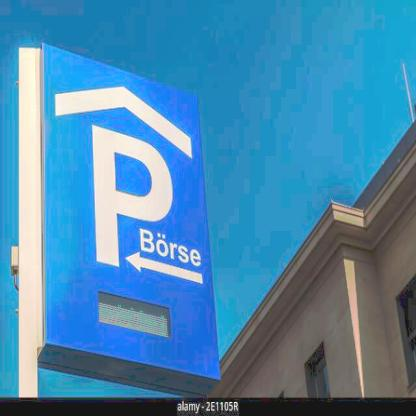Parking: (73, 117, 182, 279)
